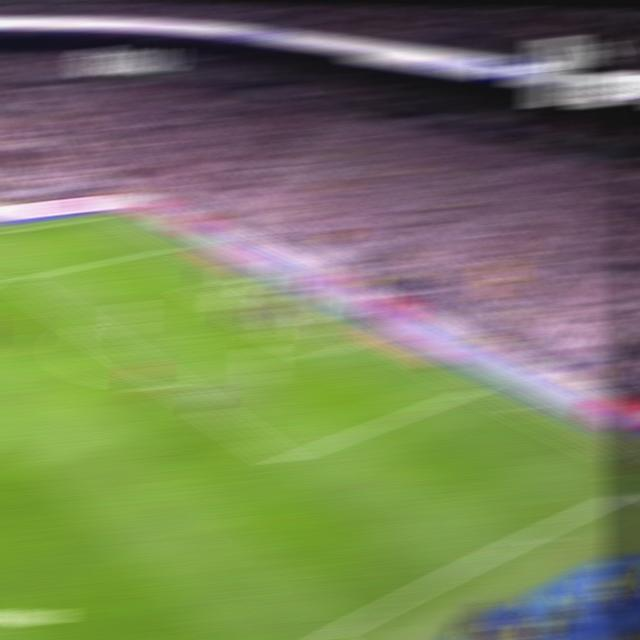bigarea_bottom_inner: (270, 448, 297, 472)
bigarea_bottom_outter: (461, 380, 487, 396)
bigarea_top_inner: (4, 272, 28, 286)
bigarea_top_outter: (166, 238, 190, 250)
bottom_arc_area_intersection: (160, 376, 187, 395)
corner: (102, 210, 125, 218)
smallarea_bottom_inner: (305, 346, 330, 364)
smallarea_bottom_outter: (357, 331, 383, 346)
smallarea_top_inner: (181, 283, 204, 293)
top_arc_area_intersection: (68, 315, 94, 331)
